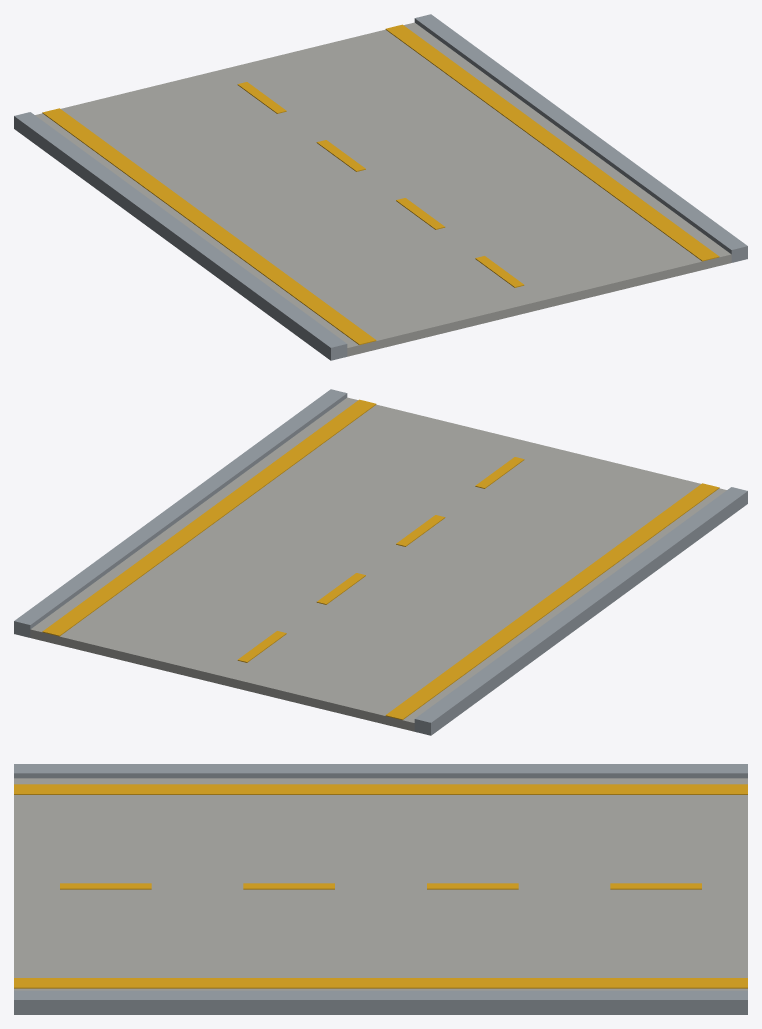
Rendered from road_industrial_viii_straight.glb.
The picture shows the model from 3 angles, top to bottom: view 1: azimuth 30°, elevation 25°; view 2: azimuth 150°, elevation 25°; view 3: azimuth 270°, elevation 25°; orthographic projection. The views are drawn at different scales.
Parts seen in each view (by area): view 1: body; view 2: body; view 3: body.
Part boxes in pixels (box(x1,y1,x2,y2)): body: box(14, 14, 747, 360); body: box(14, 389, 747, 735); body: box(14, 764, 747, 1014).
Size of what is drawn, in the model's own units: 6.08 by 0.18 by 8.
